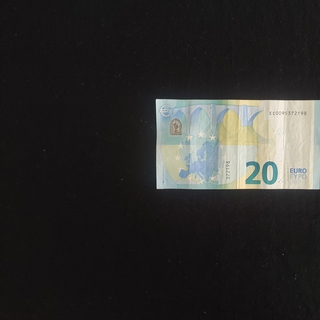20EUROBack: (155, 98, 320, 189)
